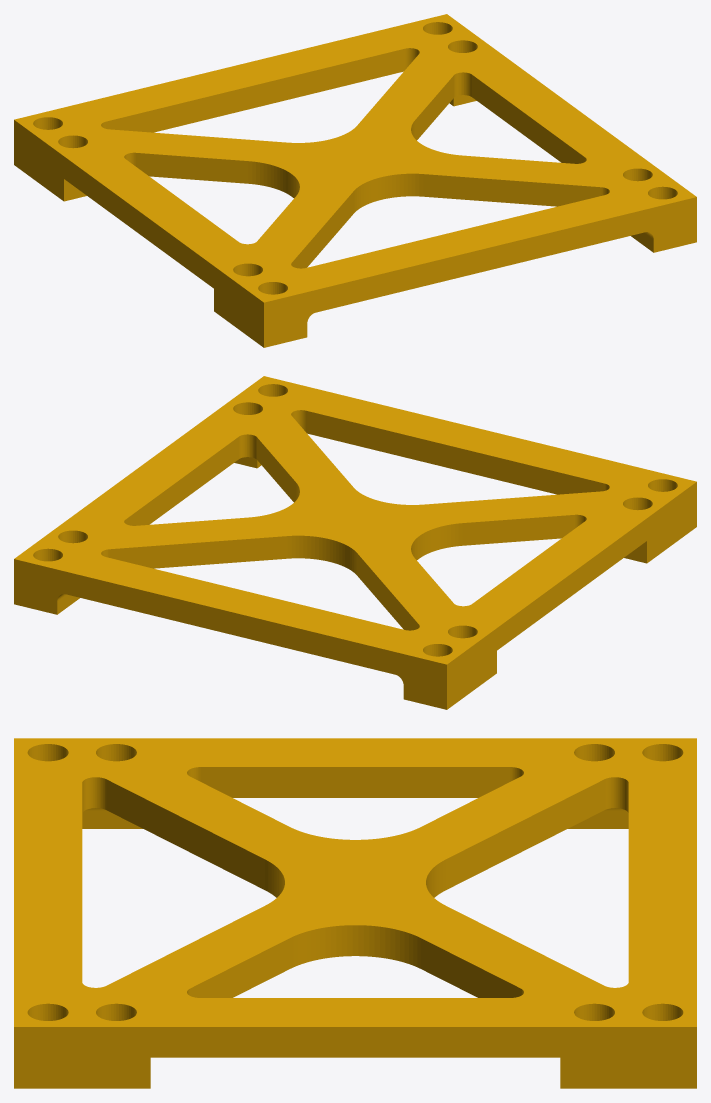
The picture shows the model from 3 angles, top to bottom: view 1: azimuth 30°, elevation 25°; view 2: azimuth 150°, elevation 25°; view 3: azimuth 270°, elevation 25°; orthographic projection. The views are drawn at different scales.
Visible parts, largest first — view 1: Side Left; view 2: Side Left; view 3: Side Left.
Part boxes in pixels (x1,y1,x2,y2): Side Left: (14, 14, 696, 347); Side Left: (14, 376, 696, 709); Side Left: (14, 738, 696, 1088).
Size of the model in its own units: 100 by 10 by 100.
